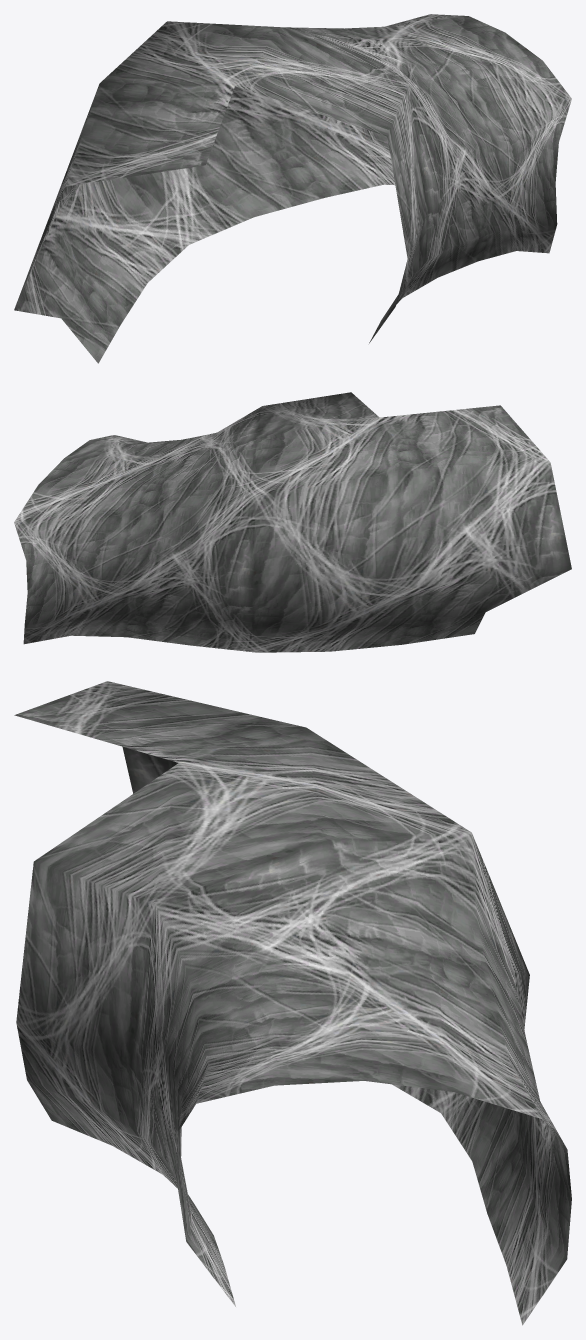
File: SWORDLIGHT20_PS-AREA01_25.fbx
3 views of the same model, one above another, from view 1: azimuth 30°, elevation 25°; view 2: azimuth 150°, elevation 25°; view 3: azimuth 270°, elevation 25° (orthographic). The views are drawn at different scales.
Parts seen in each view (by area): view 1: SWORDLIGHT20_PS-AREA01_25; view 2: SWORDLIGHT20_PS-AREA01_25; view 3: SWORDLIGHT20_PS-AREA01_25.
Boxes of the visible parts, x1,y1,x2,y2 form: SWORDLIGHT20_PS-AREA01_25: [14, 14, 571, 363]; SWORDLIGHT20_PS-AREA01_25: [14, 392, 571, 652]; SWORDLIGHT20_PS-AREA01_25: [14, 681, 571, 1325].
Bounding box in the file's own units: 130752 × 60379 × 85672.
Materials: 1 (1 with a texture image).
